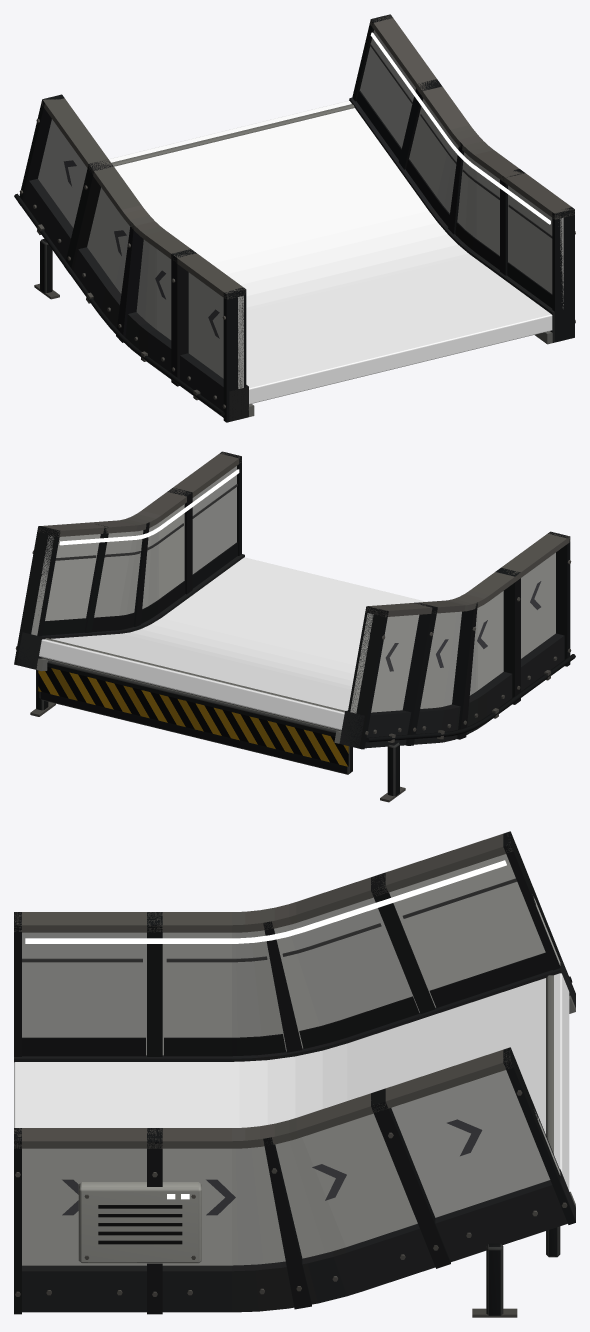
Rendered from conveyor_adv_loader.glb.
3 views of the same model, one above another, from view 1: azimuth 30°, elevation 25°; view 2: azimuth 150°, elevation 25°; view 3: azimuth 270°, elevation 25° (orthographic). The views are drawn at different scales.
Parts seen in each view (by area): view 1: Belt, Frame; view 2: Frame, Belt; view 3: Frame, Belt.
Boxes of the visible parts, x1,y1,x2,y2 form: Belt: (109,100,552,404); Frame: (14,14,575,422); Frame: (14,451,575,802); Belt: (39,557,426,730); Frame: (14,831,575,1317); Belt: (14,973,569,1190).
Size of the model in its own units: 2 by 0.998 by 2.
